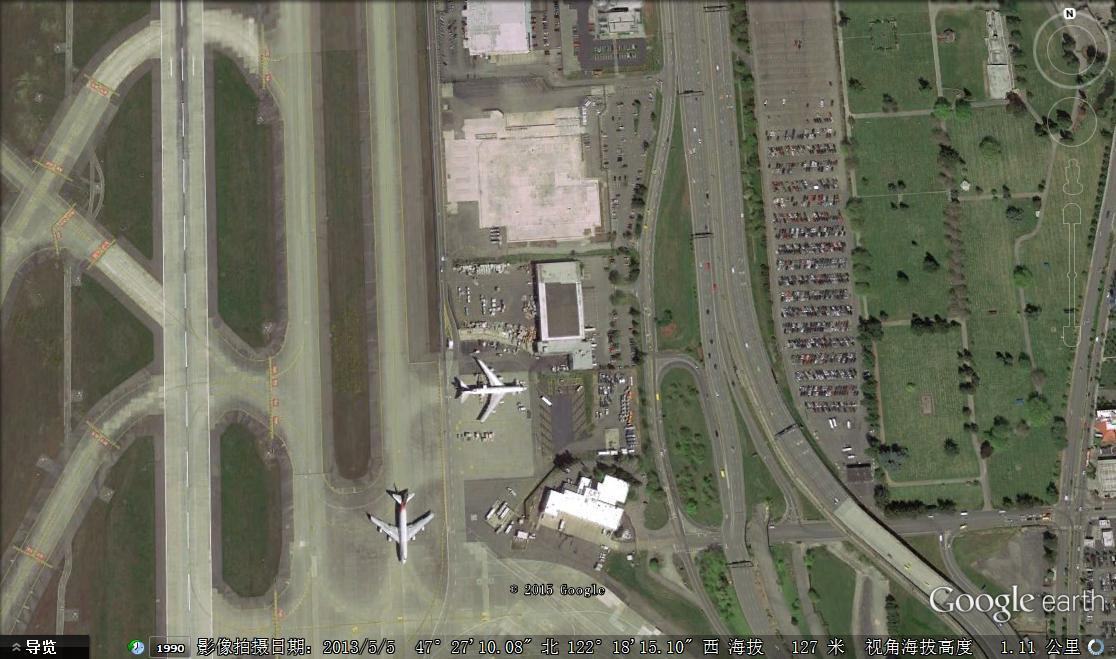aircraft: (445, 349, 528, 428), (363, 485, 439, 569)
